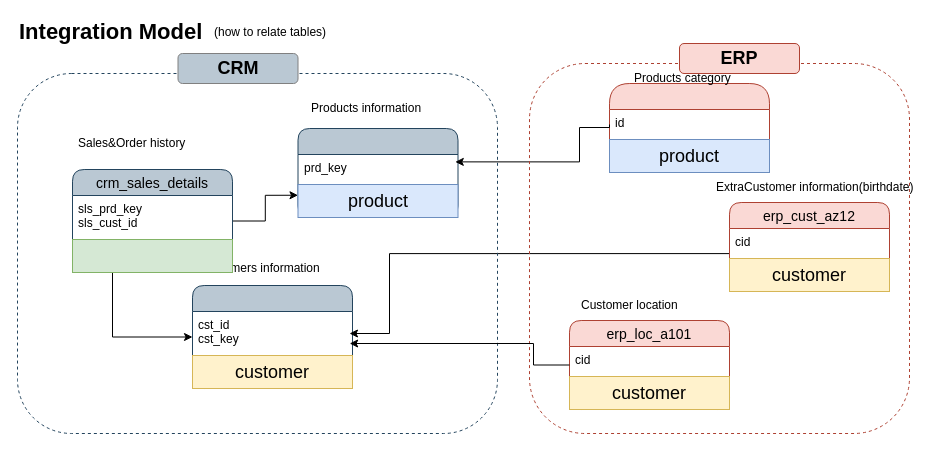
This 931x451 diagram has some shape labels left out. Here are the shapes that lost their labels. From the top down, the box of each, then its label:
(608, 82, 770, 172): erp_px_cat_g1v2
(297, 128, 458, 218): crm_prd_info
(72, 238, 232, 272): sales
(192, 284, 352, 388): crm_cust_info
